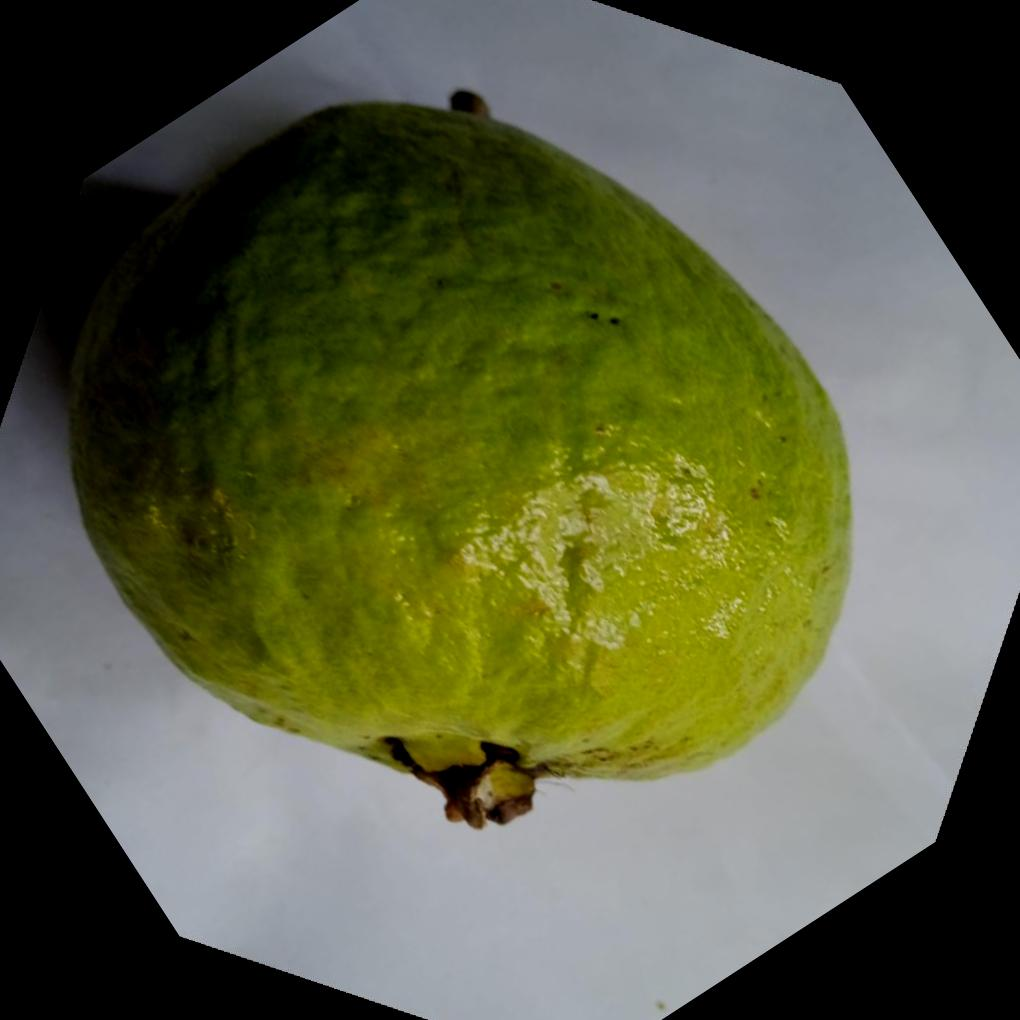FreshGuava: (63, 92, 853, 830)
